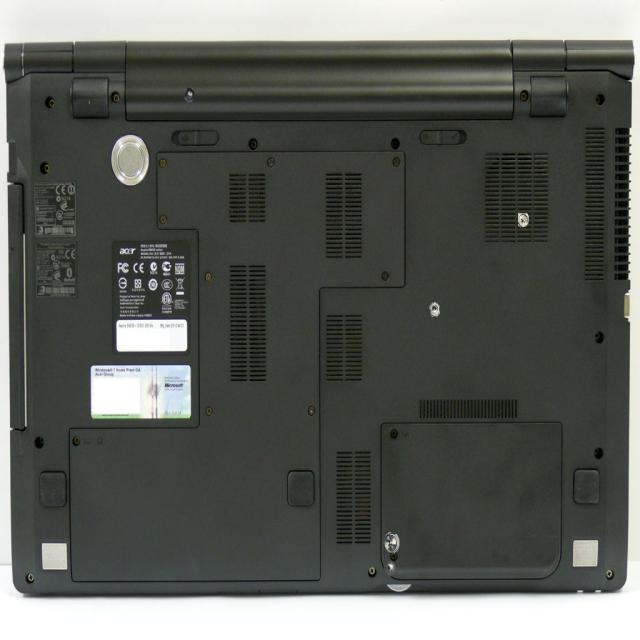lock: (383, 532, 399, 553), (516, 211, 529, 228)
missing_screw: (429, 302, 440, 317), (384, 560, 395, 575), (183, 88, 194, 102)
